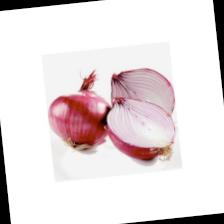onion: (44, 68, 116, 154), (102, 90, 180, 166), (108, 64, 178, 128)
